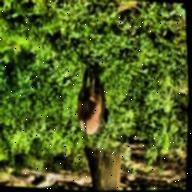boar: (45, 64, 121, 157)
